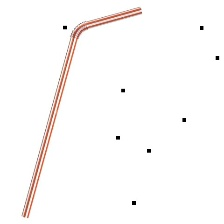drinking_straw: (14, 3, 148, 222)
